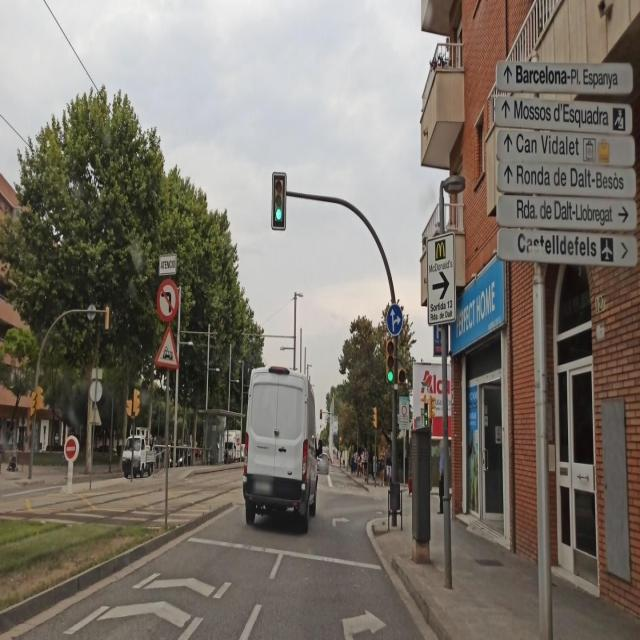car: (243, 364, 318, 531), (121, 433, 157, 478)
